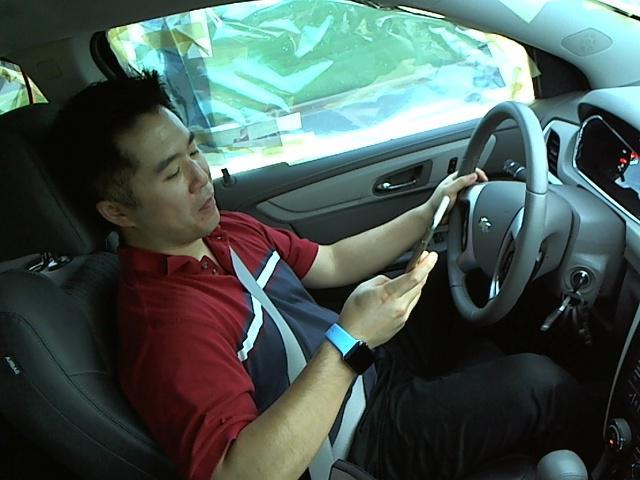PhoneUse: (398, 190, 455, 290)
